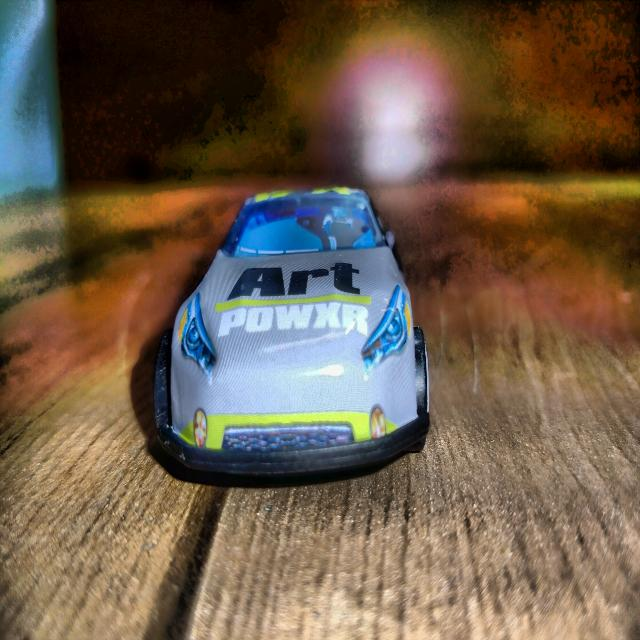Car: (155, 188, 429, 477)
